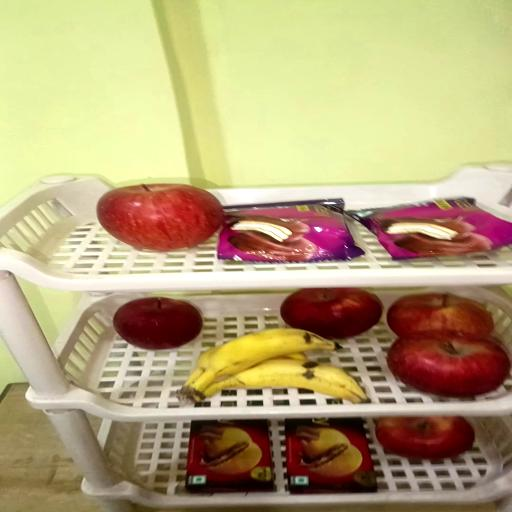Apple: (98, 185, 226, 254), (386, 333, 509, 398), (281, 288, 383, 340), (386, 294, 493, 341), (115, 298, 205, 351), (374, 415, 475, 459)
Choco Fills: (286, 416, 376, 492), (188, 418, 274, 493)
Choco Pie: (349, 199, 511, 261), (219, 201, 366, 265)
